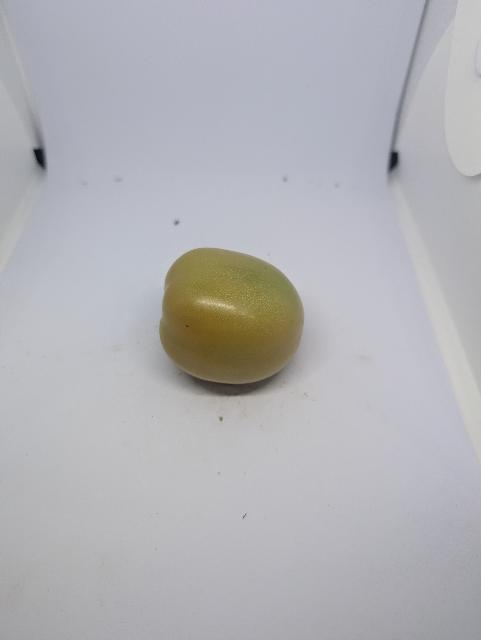breaker: (160, 248, 304, 384)
